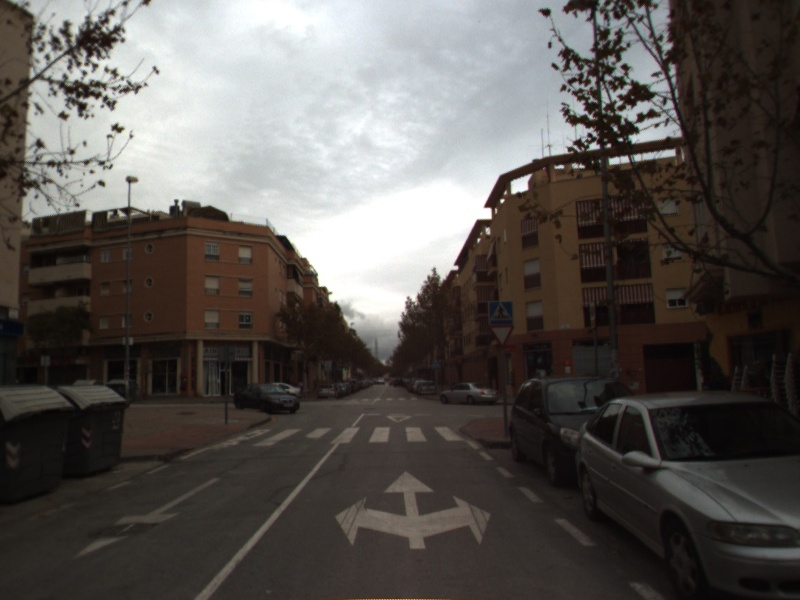STRAIGHT_LEFT_RIGHT: (333, 469, 493, 551)
